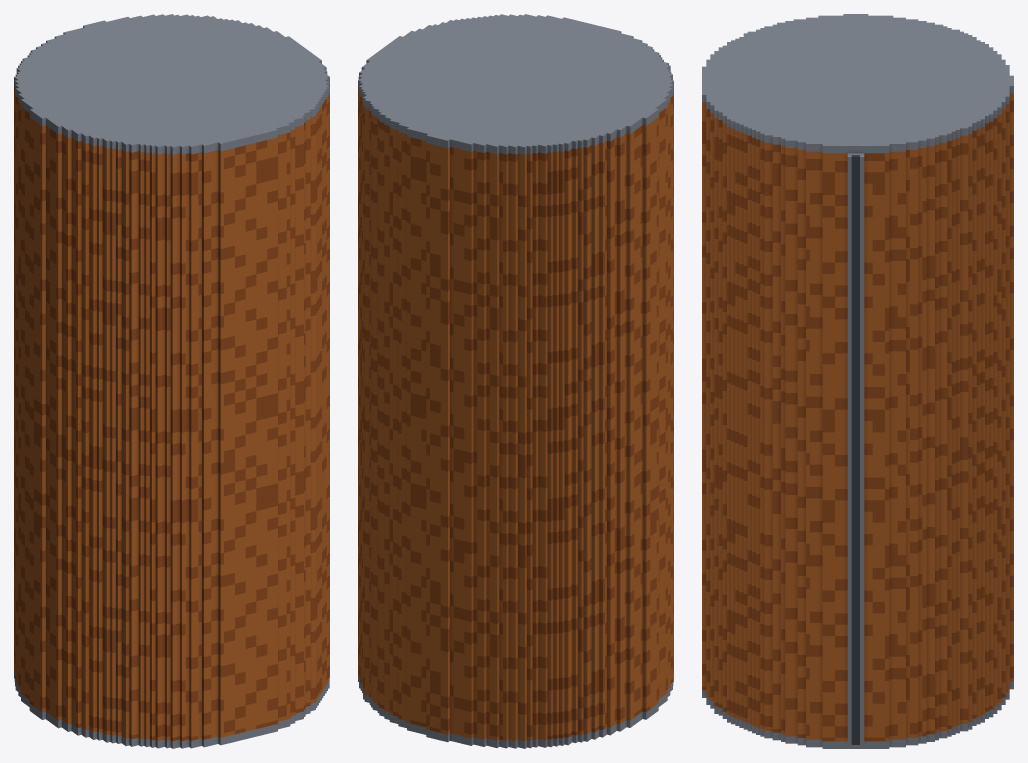
Rendered from tank_hydrolox_l8.glb.
The picture shows the model from 3 angles, left to right: view 1: azimuth 30°, elevation 25°; view 2: azimuth 150°, elevation 25°; view 3: azimuth 270°, elevation 25°; orthographic projection.
Parts seen in each view (by area): view 1: tank_hydrolox_l8; view 2: tank_hydrolox_l8; view 3: tank_hydrolox_l8.
Boxes of the visible parts, x1,y1,x2,y2 form: tank_hydrolox_l8: [14, 14, 329, 748]; tank_hydrolox_l8: [358, 14, 673, 748]; tank_hydrolox_l8: [702, 14, 1013, 748].
Size of the model in its own units: 3.85 by 8 by 3.75.
